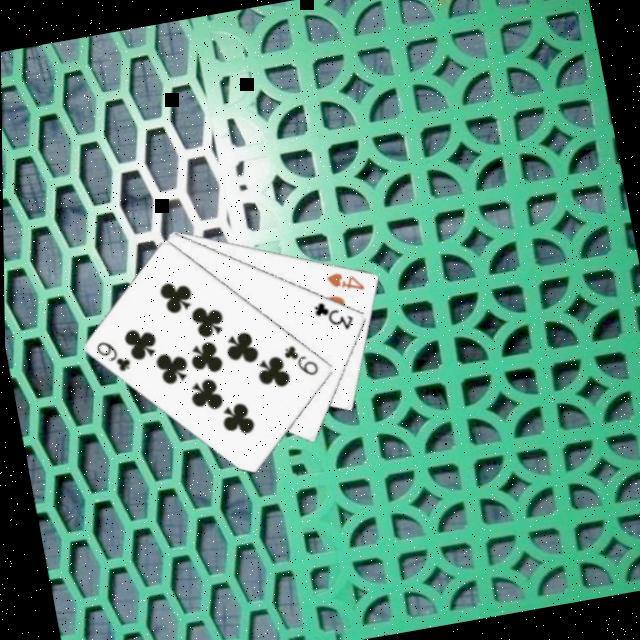3C: (306, 292, 356, 337)
4H: (320, 263, 366, 298)
9C: (276, 336, 321, 382), (89, 332, 134, 378)
